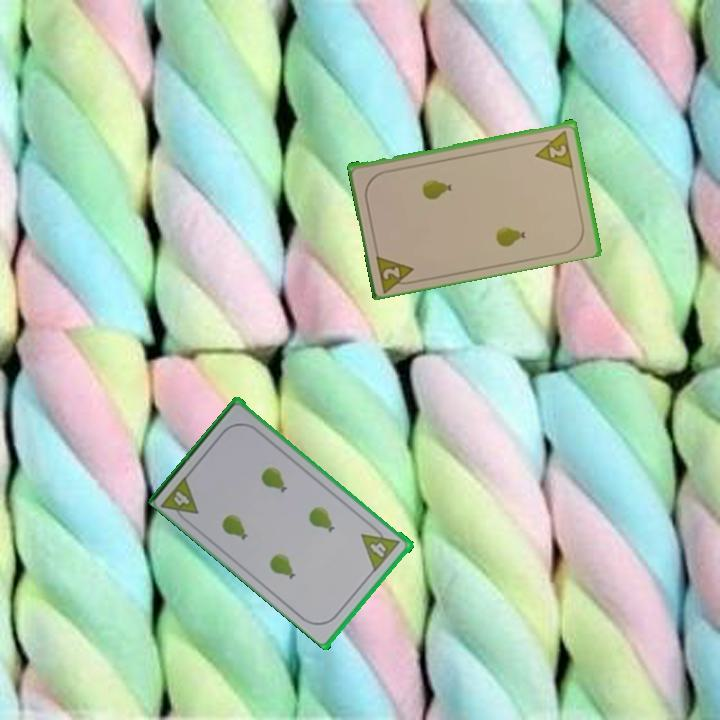2p: (372, 249, 420, 293), (530, 126, 576, 170)
4p: (158, 471, 202, 527), (358, 521, 403, 574)
